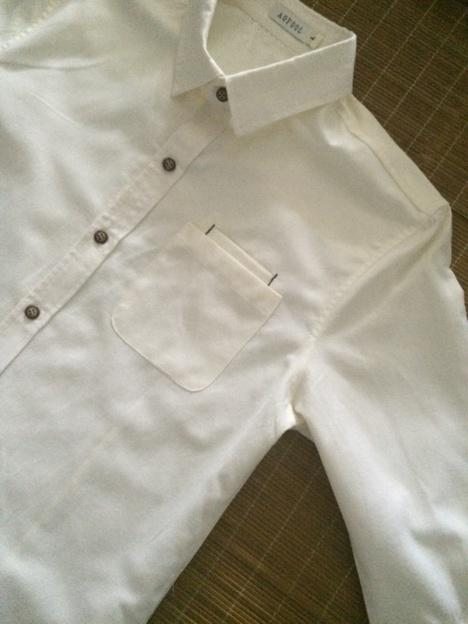C_shirt: (2, 1, 468, 621)
